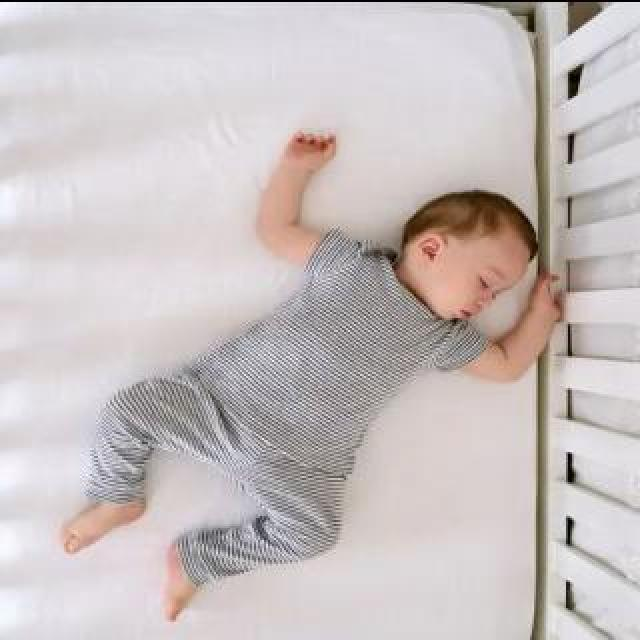baby: (60, 127, 560, 617)
